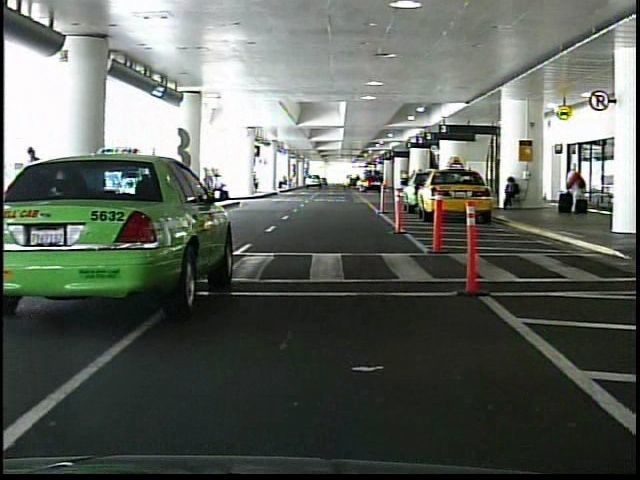person: (20, 145, 49, 238), (564, 166, 591, 215), (501, 176, 521, 210)
